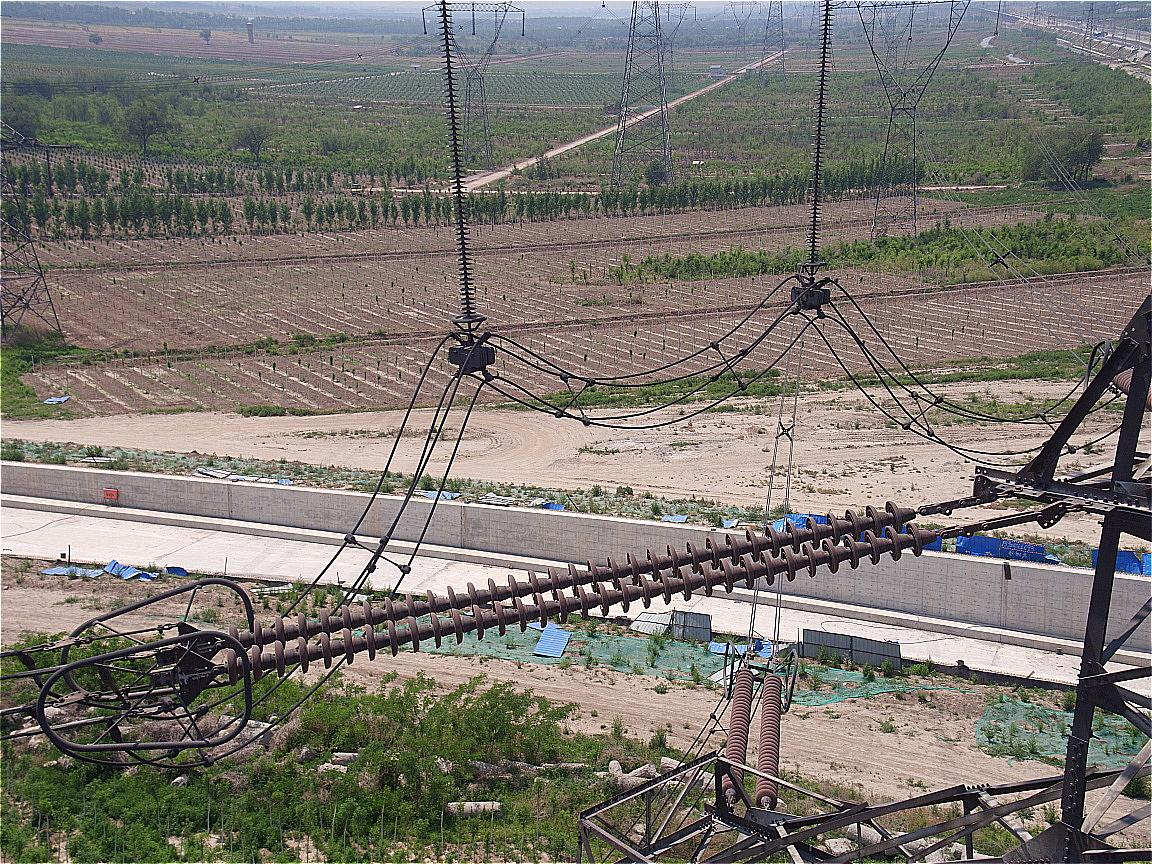insultor1: (226, 498, 928, 688), (434, 7, 482, 317), (804, 2, 835, 271)
